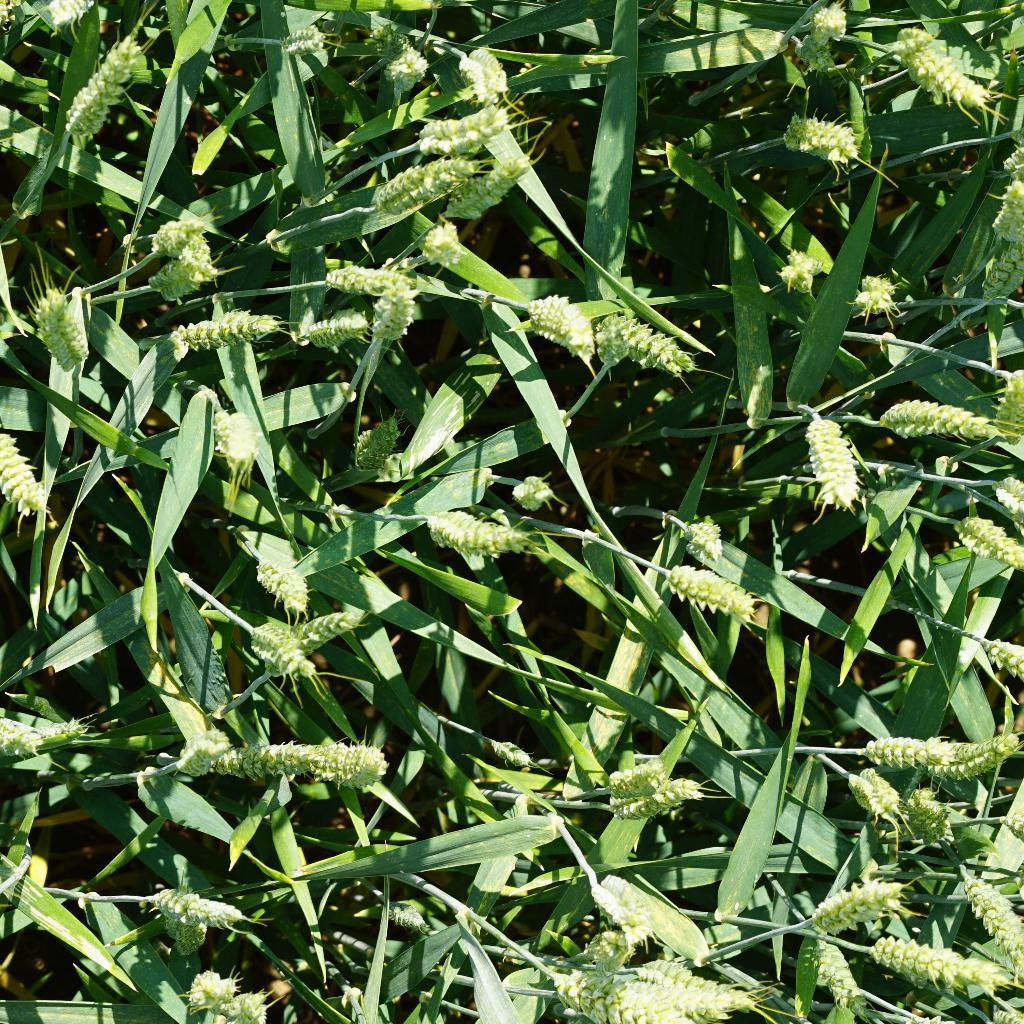0-0: (52, 32, 151, 153), (635, 952, 780, 1023), (888, 29, 998, 119), (870, 394, 1011, 461), (549, 971, 728, 1023), (244, 733, 397, 788), (25, 269, 100, 376), (415, 496, 537, 561), (589, 310, 699, 380), (798, 871, 914, 935), (262, 601, 369, 669), (802, 407, 866, 515), (662, 557, 773, 619), (949, 869, 1024, 960), (508, 281, 597, 357), (597, 762, 701, 826), (354, 159, 477, 213), (582, 867, 664, 944), (862, 931, 976, 985), (0, 414, 58, 520), (436, 150, 530, 215), (802, 934, 881, 1009), (242, 619, 329, 686), (144, 875, 256, 927), (404, 111, 526, 156), (983, 169, 1024, 302), (239, 550, 325, 613), (164, 305, 279, 352), (205, 399, 268, 484), (0, 707, 86, 769), (946, 510, 1024, 577), (463, 717, 542, 780), (869, 718, 959, 770), (787, 103, 863, 163), (583, 911, 649, 980), (984, 360, 1024, 473), (350, 402, 410, 477), (365, 27, 433, 92), (796, 0, 854, 73), (763, 240, 830, 302), (901, 789, 968, 851), (938, 734, 1024, 780), (331, 258, 425, 299), (672, 504, 737, 557), (370, 886, 436, 938), (148, 250, 224, 295), (505, 466, 568, 520), (362, 291, 425, 344), (286, 301, 365, 343), (444, 45, 511, 94), (847, 770, 909, 822), (848, 268, 904, 325), (172, 725, 232, 777), (134, 219, 209, 257), (406, 220, 473, 262), (971, 628, 1024, 678), (41, 0, 109, 37), (180, 965, 228, 1011), (167, 905, 210, 952), (275, 22, 331, 58)
